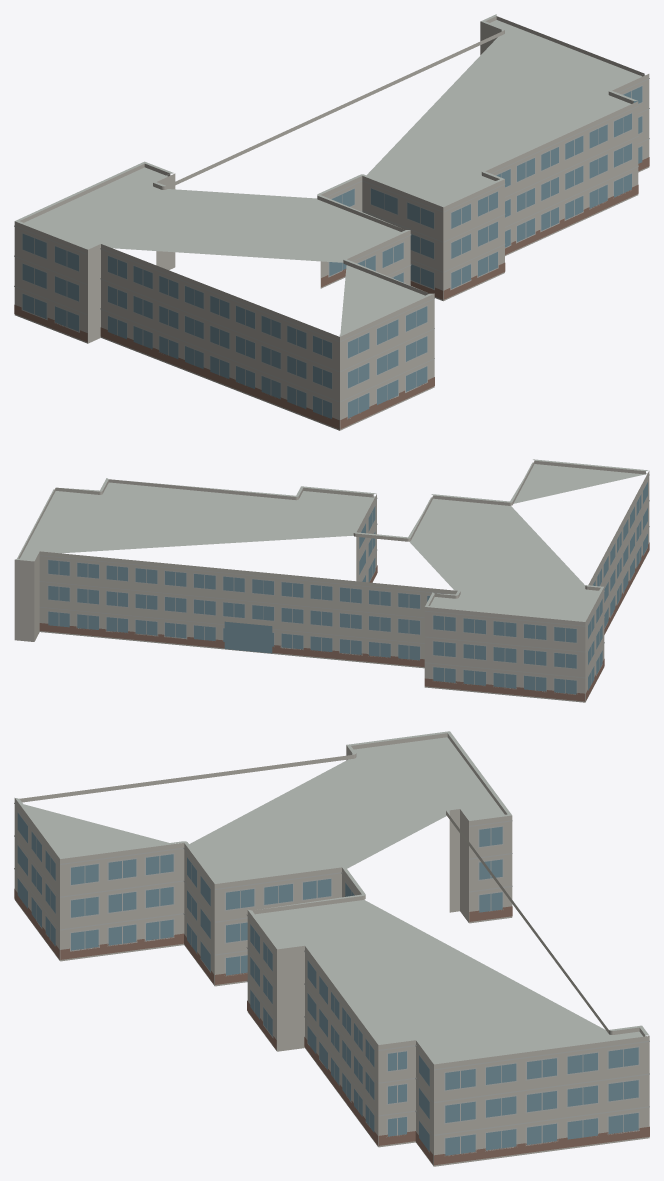
The model's file is public-17c43349-dbe2-44e3-9917-8ff3d7788407.glb.
The picture shows the model from 3 angles, top to bottom: view 1: azimuth 30°, elevation 25°; view 2: azimuth 150°, elevation 25°; view 3: azimuth 270°, elevation 25°; orthographic projection. The views are drawn at different scales.
Visible parts, largest first — view 1: public-17c43349-dbe2-44e3-9917-8ff3d7788407; view 2: public-17c43349-dbe2-44e3-9917-8ff3d7788407; view 3: public-17c43349-dbe2-44e3-9917-8ff3d7788407.
Boxes of the visible parts, <box> form: public-17c43349-dbe2-44e3-9917-8ff3d7788407: <box>14,14,649,430</box>; public-17c43349-dbe2-44e3-9917-8ff3d7788407: <box>14,459,649,702</box>; public-17c43349-dbe2-44e3-9917-8ff3d7788407: <box>14,731,649,1166</box>.
Size of the model in its own units: 64.05 by 9.15 by 51.54.
